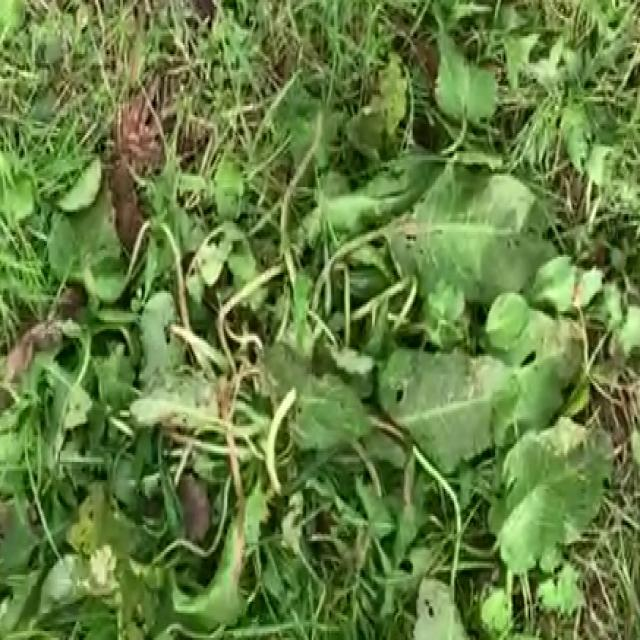organic waste: (38, 40, 618, 640)
